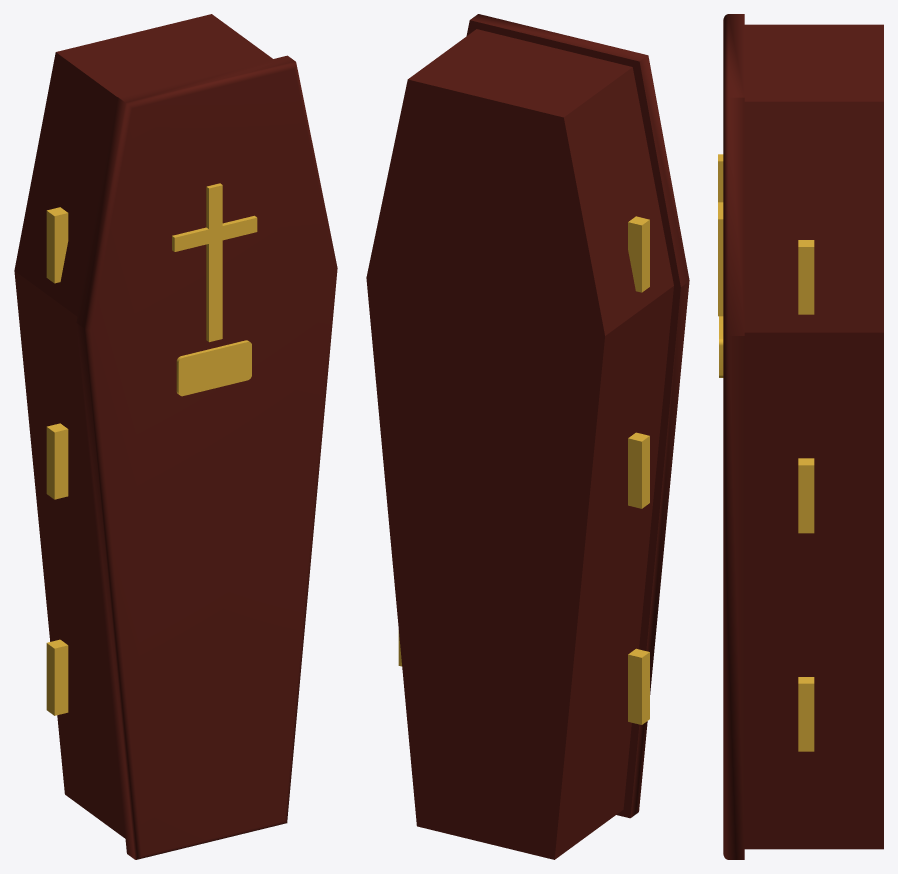
Rendered from coffin_fancy.glb.
The picture shows the model from 3 angles, left to right: view 1: azimuth 30°, elevation 25°; view 2: azimuth 150°, elevation 25°; view 3: azimuth 270°, elevation 25°; orthographic projection.
Visible parts, largest first — view 1: Lid, Box, Plate, CrossV, Handle_-1_0, Handle_-1_1, Handle_-1_2, CrossH; view 2: Box, Lid, Handle_-1_0, Handle_-1_1, Handle_-1_2; view 3: Box, Lid, Handle_1_1, Handle_1_0, Handle_1_2, CrossV.
Part boxes in pixels (box(x1,y1,x2,y2)): Lid: box(76, 55, 337, 859); Box: box(14, 14, 272, 838); Plate: box(176, 340, 251, 396); CrossV: box(206, 183, 222, 342); Handle_-1_0: box(46, 639, 68, 715); Handle_-1_1: box(46, 423, 68, 499); Handle_-1_2: box(46, 207, 68, 283); CrossH: box(172, 215, 257, 251); Box: box(366, 29, 673, 859); Lid: box(466, 14, 689, 818); Handle_-1_0: box(628, 648, 649, 724); Handle_-1_1: box(628, 432, 649, 508); Handle_-1_2: box(628, 216, 649, 292); Box: box(744, 24, 883, 849); Lid: box(723, 14, 744, 859); Handle_1_1: box(798, 458, 814, 533); Handle_1_0: box(798, 677, 814, 751); Handle_1_2: box(798, 240, 814, 314); CrossV: box(718, 154, 723, 316).
Size of the model in its own units: 0.55 by 1.58 by 0.31.
